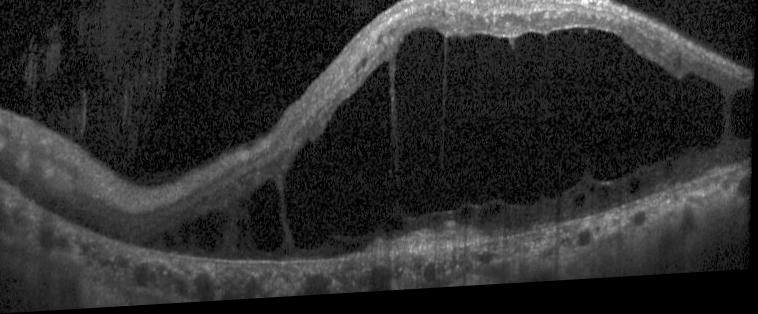intraretinal_cyst: (438, 36, 727, 214), (285, 67, 398, 253), (396, 33, 445, 217), (249, 183, 287, 255), (194, 213, 228, 257), (732, 98, 754, 149), (330, 243, 360, 255), (180, 226, 192, 252), (480, 211, 502, 224), (385, 223, 405, 237), (165, 235, 177, 248), (461, 213, 472, 225), (576, 201, 586, 214), (631, 189, 641, 202), (603, 193, 611, 202), (591, 193, 595, 199)
